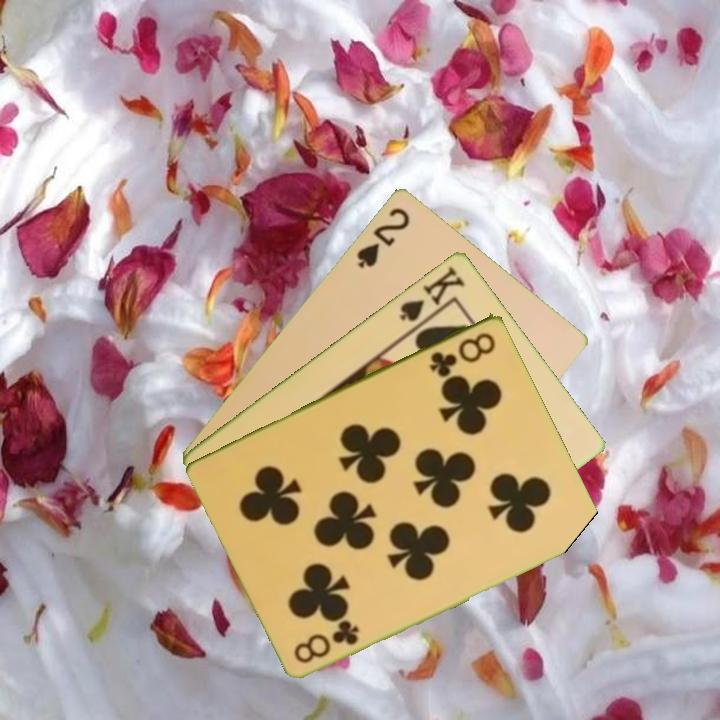2s: (352, 203, 413, 271)
8c: (426, 328, 499, 380), (290, 617, 363, 666)
Ks: (395, 261, 468, 333)
